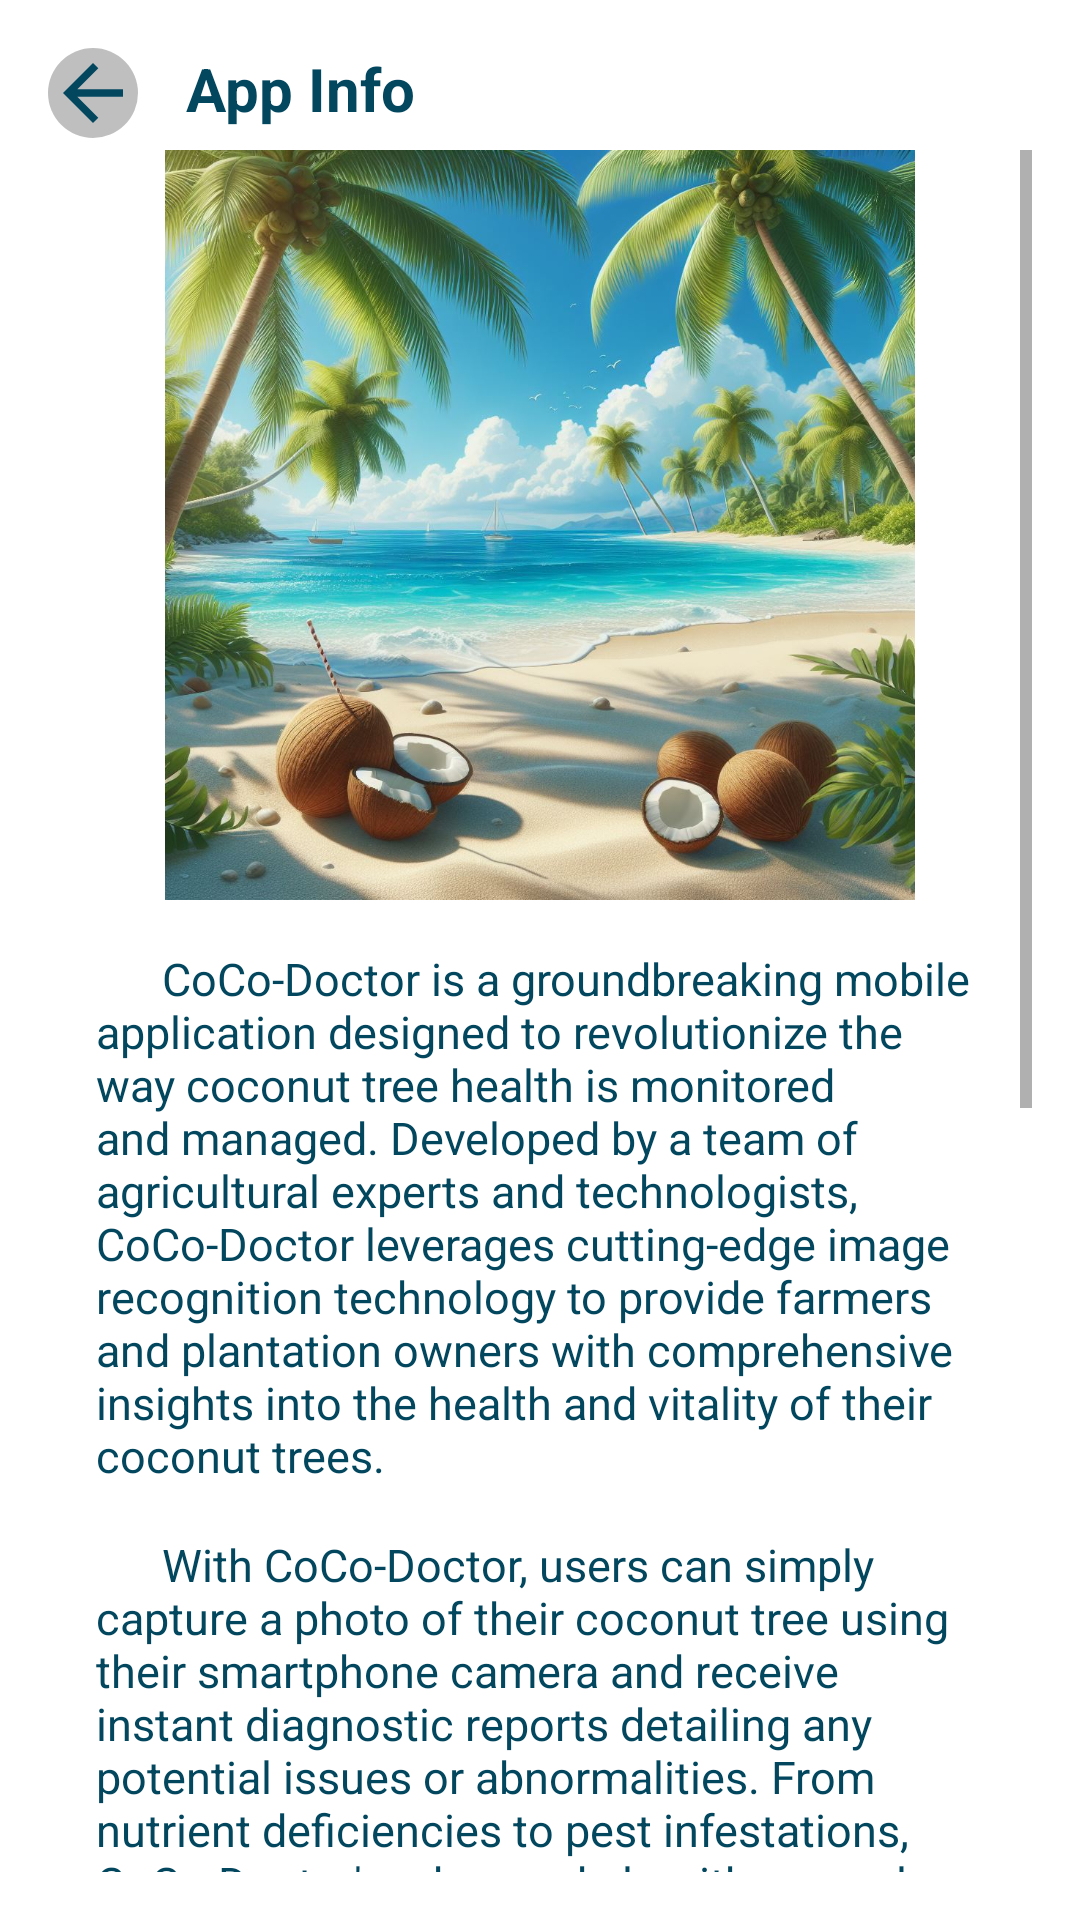

Icons on this 1080w x 1920h Android screen, each with its box as bbox(x1, y1, x2, y2):
arrow back: bbox(48, 48, 138, 138)
